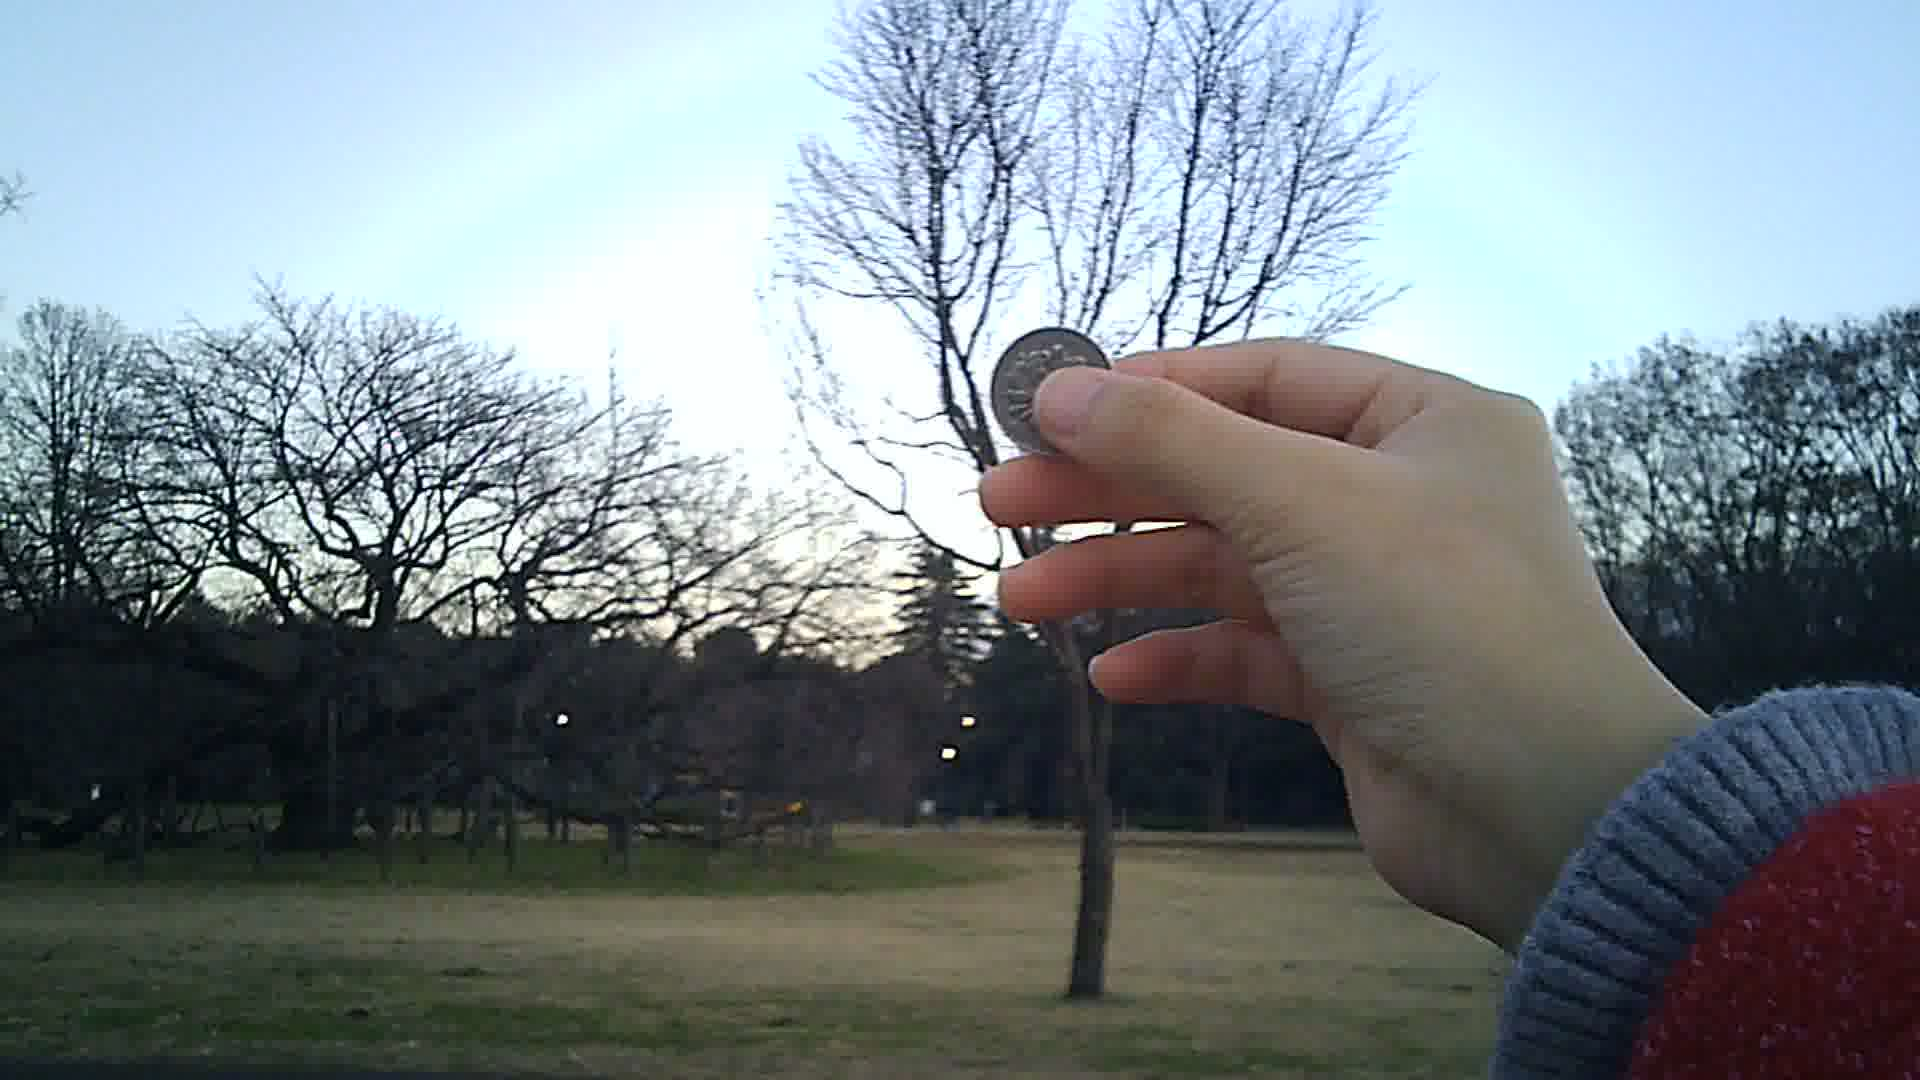100 Yen: (985, 324, 1126, 462)
